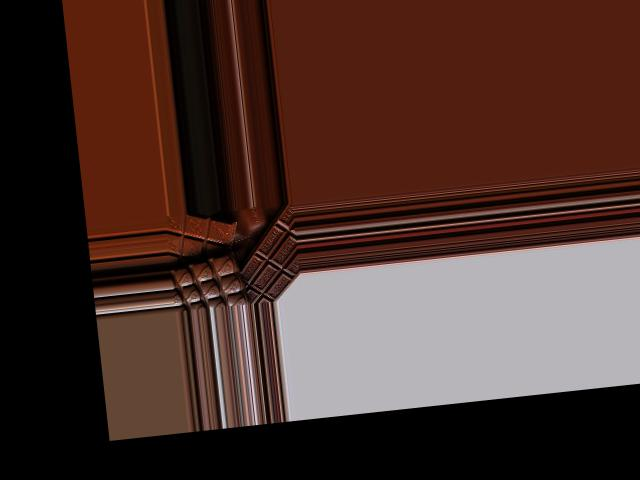chocolate: (164, 214, 241, 277)
